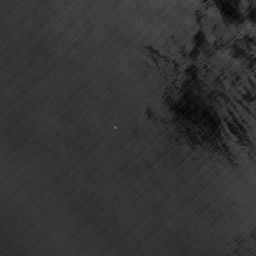Target: (113, 125, 117, 130)
